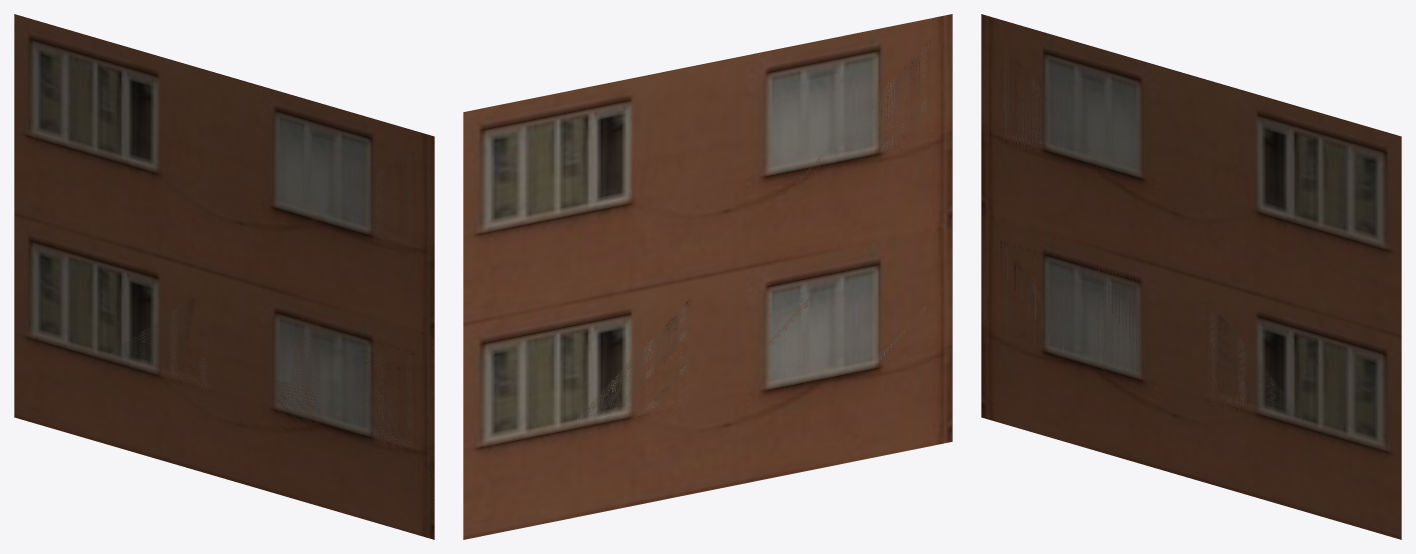
File: ResTex__3384.fbx
3 renders of one model, left to right at view 1: azimuth 90°, elevation 25°; view 2: azimuth 150°, elevation 25°; view 3: azimuth 270°, elevation 25°, orthographic. The views are drawn at different scales.
Parts seen in each view (by area): view 1: CityEngineMaterial_20_m; view 2: CityEngineMaterial_20_m; view 3: CityEngineMaterial_20_m.
Boxes of the visible parts, left/top/right/bottom form: CityEngineMaterial_20_m: left=14, top=14, right=434, bottom=539; CityEngineMaterial_20_m: left=463, top=14, right=952, bottom=539; CityEngineMaterial_20_m: left=981, top=14, right=1401, bottom=539.
Bounding box in the file's own units: 3.91 × 6 × 5.67.
1 material, 1 textured.
